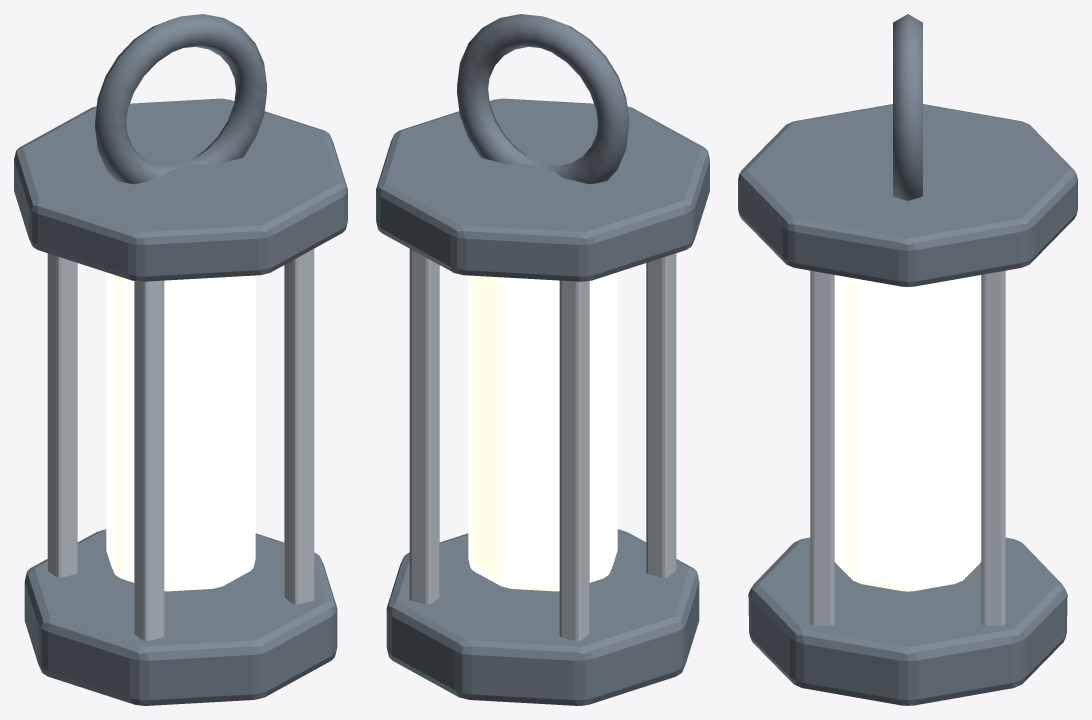
File: golden_harvestlantern.glb
3 views of the same model, side by side, from view 1: azimuth 30°, elevation 25°; view 2: azimuth 150°, elevation 25°; view 3: azimuth 270°, elevation 25° (orthographic).
Visible parts, largest first — view 1: GS_HarvestLantern_Crown_DarkMetal, GS_HarvestLantern_Glow_CandleGold, GS_HarvestLantern_Foot_DarkMetal, GS_HarvestLantern_Handle_DarkMetal, GS_HarvestLantern_Rib2_SecondaryMetal, GS_HarvestLantern_Rib3_SecondaryMetal, GS_HarvestLantern_Rib1_SecondaryMetal; view 2: GS_HarvestLantern_Crown_DarkMetal, GS_HarvestLantern_Glow_CandleGold, GS_HarvestLantern_Foot_DarkMetal, GS_HarvestLantern_Handle_DarkMetal, GS_HarvestLantern_Rib1_SecondaryMetal, GS_HarvestLantern_Rib0_SecondaryMetal, GS_HarvestLantern_Rib2_SecondaryMetal; view 3: GS_HarvestLantern_Crown_DarkMetal, GS_HarvestLantern_Glow_CandleGold, GS_HarvestLantern_Foot_DarkMetal, GS_HarvestLantern_Rib0_SecondaryMetal, GS_HarvestLantern_Rib3_SecondaryMetal, GS_HarvestLantern_Handle_DarkMetal.
Part boxes in pixels (x1,y1,x2,y2): GS_HarvestLantern_Crown_DarkMetal: (14,98,347,281); GS_HarvestLantern_Glow_CandleGold: (106,272,255,591); GS_HarvestLantern_Foot_DarkMetal: (24,529,337,705); GS_HarvestLantern_Handle_DarkMetal: (95,14,266,184); GS_HarvestLantern_Rib2_SecondaryMetal: (134,280,164,640); GS_HarvestLantern_Rib3_SecondaryMetal: (284,249,314,604); GS_HarvestLantern_Rib1_SecondaryMetal: (47,253,77,577); GS_HarvestLantern_Crown_DarkMetal: (376,98,709,281); GS_HarvestLantern_Glow_CandleGold: (468,272,617,591); GS_HarvestLantern_Foot_DarkMetal: (386,529,699,705); GS_HarvestLantern_Handle_DarkMetal: (457,14,628,184); GS_HarvestLantern_Rib1_SecondaryMetal: (559,280,589,640); GS_HarvestLantern_Rib0_SecondaryMetal: (409,249,439,604); GS_HarvestLantern_Rib2_SecondaryMetal: (646,253,676,577); GS_HarvestLantern_Crown_DarkMetal: (738,104,1077,286); GS_HarvestLantern_Glow_CandleGold: (834,275,981,591); GS_HarvestLantern_Foot_DarkMetal: (748,537,1067,705); GS_HarvestLantern_Rib0_SecondaryMetal: (981,270,1005,625); GS_HarvestLantern_Rib3_SecondaryMetal: (810,270,834,625); GS_HarvestLantern_Handle_DarkMetal: (893,14,922,200).
Size of the model in its own units: 1.26 by 2.55 by 1.26.
